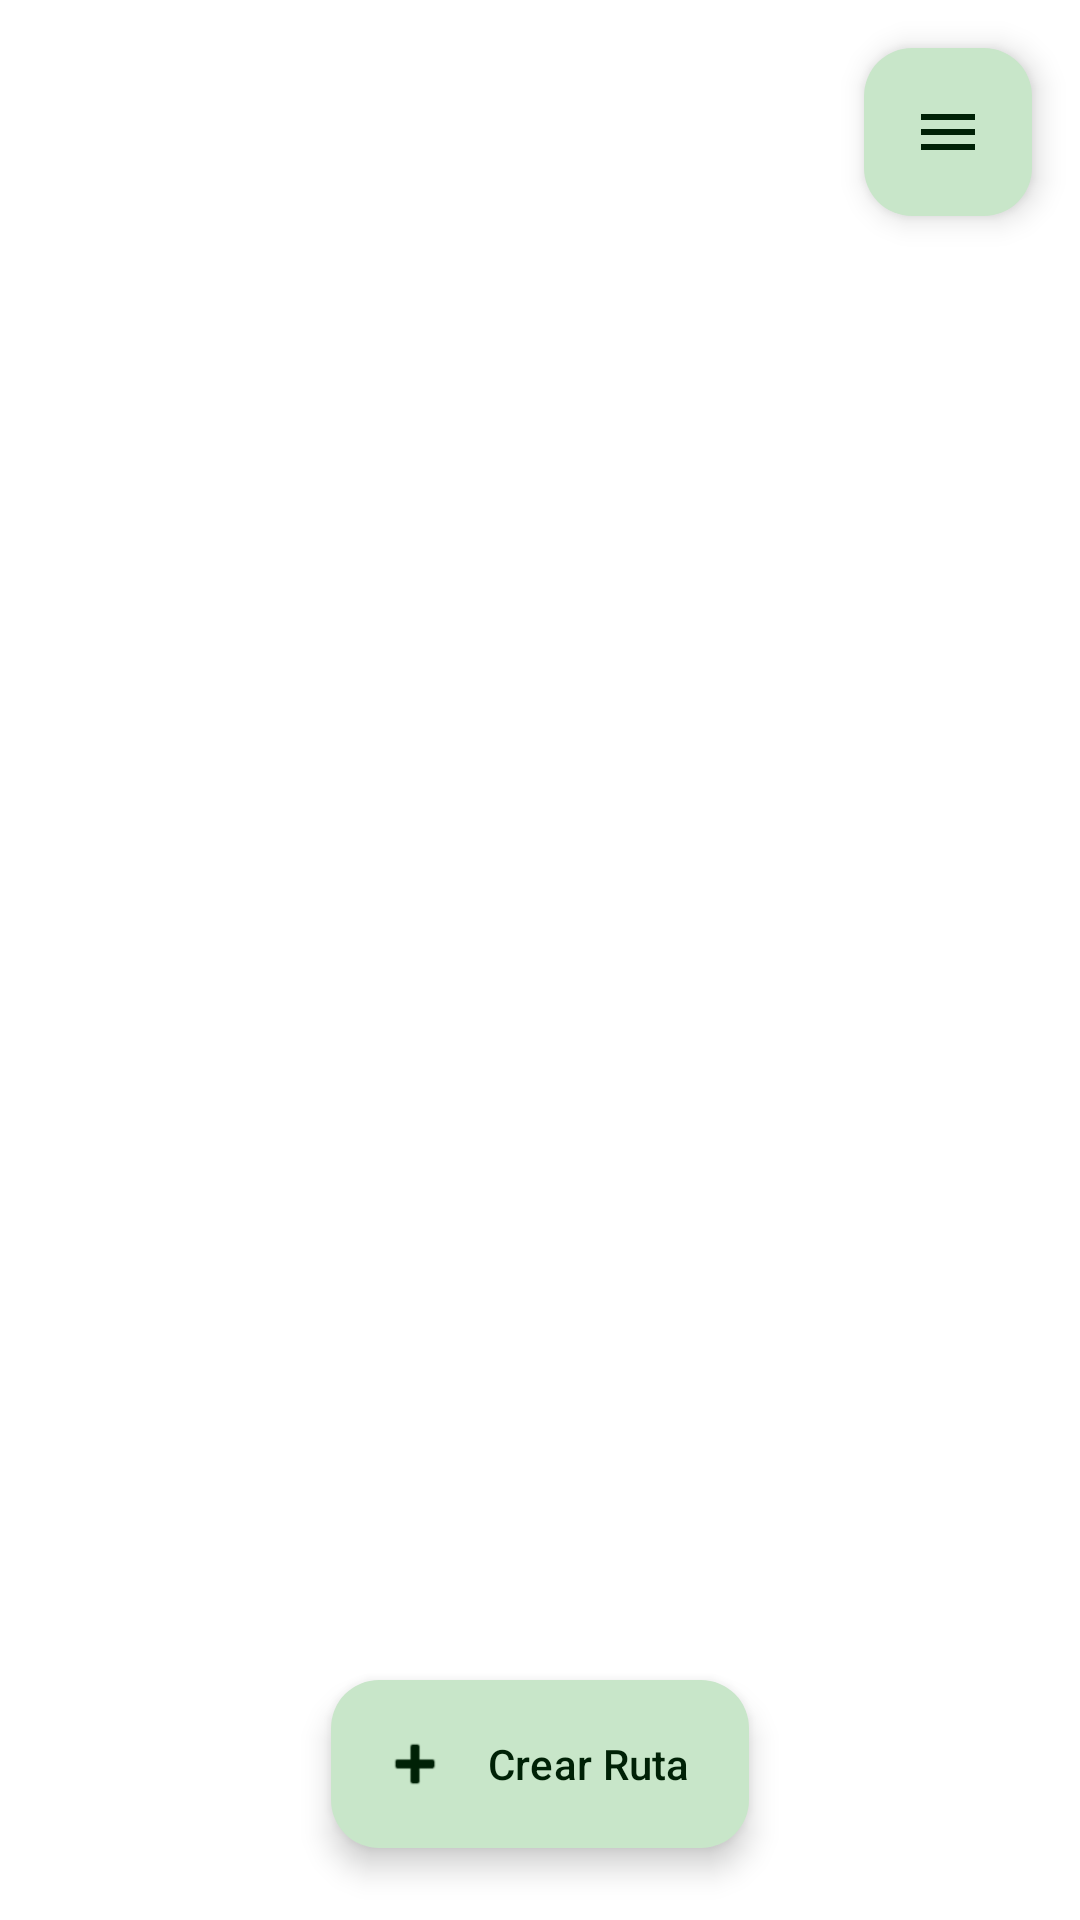

Icon click points for this 1080w x 1920h phone screenshot, format (x,y):
Opciones: (948,132)
